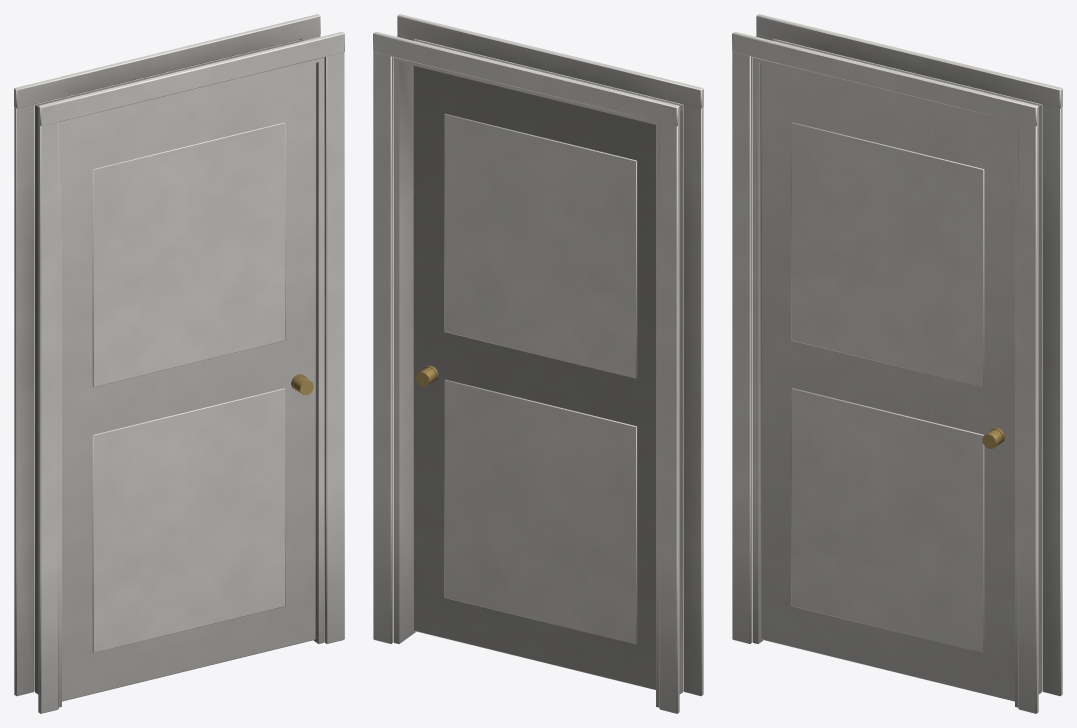
File: door_interior.glb
3 views of the same model, side by side, from view 1: azimuth 30°, elevation 25°; view 2: azimuth 150°, elevation 25°; view 3: azimuth 330°, elevation 25° (orthographic).
Visible parts, largest first — view 1: pivot_leaf, body; view 2: pivot_leaf, body; view 3: pivot_leaf, body.
Boxes of the visible parts, x1,y1,x2,y2 form: pivot_leaf: (62,63,316,701); body: (14,14,344,713); pivot_leaf: (413,66,655,689); body: (373,14,703,713); pivot_leaf: (760,63,1014,701); body: (732,14,1062,713).
Size of the model in its own units: 1.14 by 2.17 by 0.203.
Materials: 2 (1 with a texture image).
